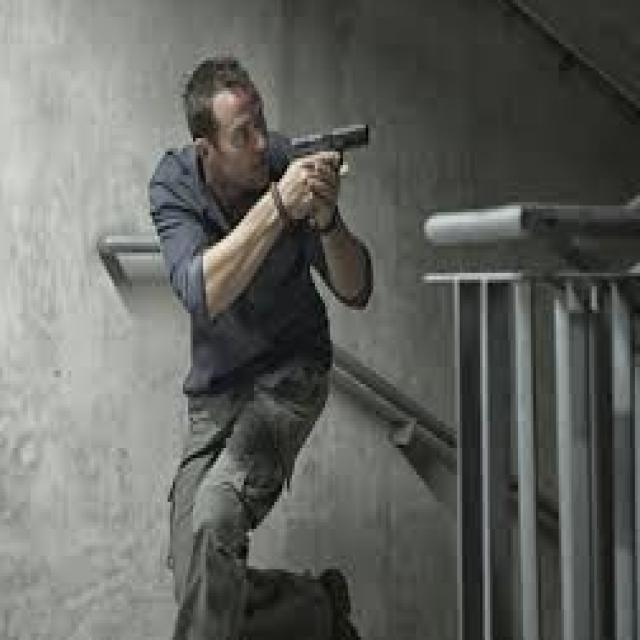gun: (282, 106, 380, 227)
